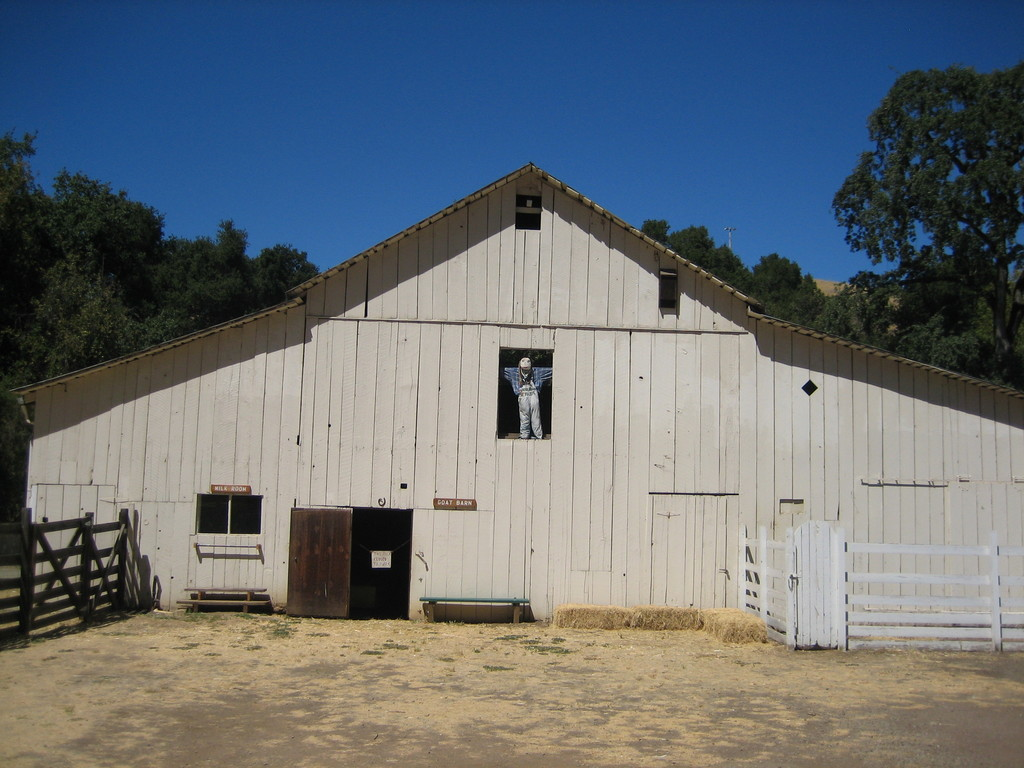person: (501, 354, 549, 440)
